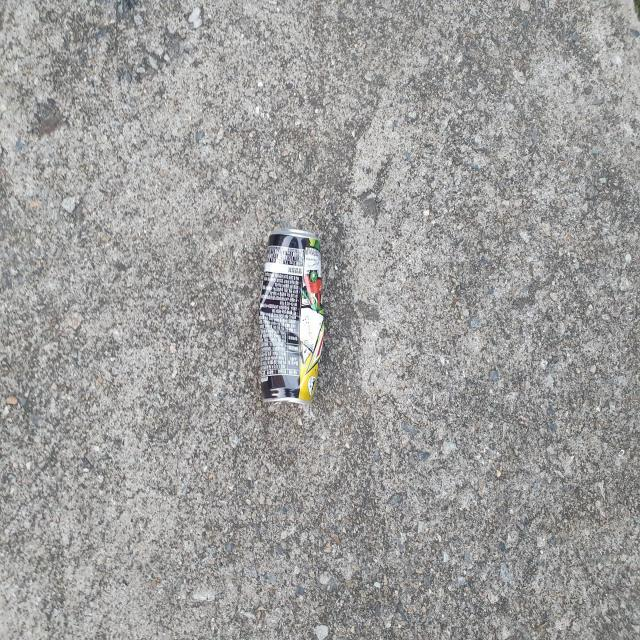can: (259, 228, 325, 404)
